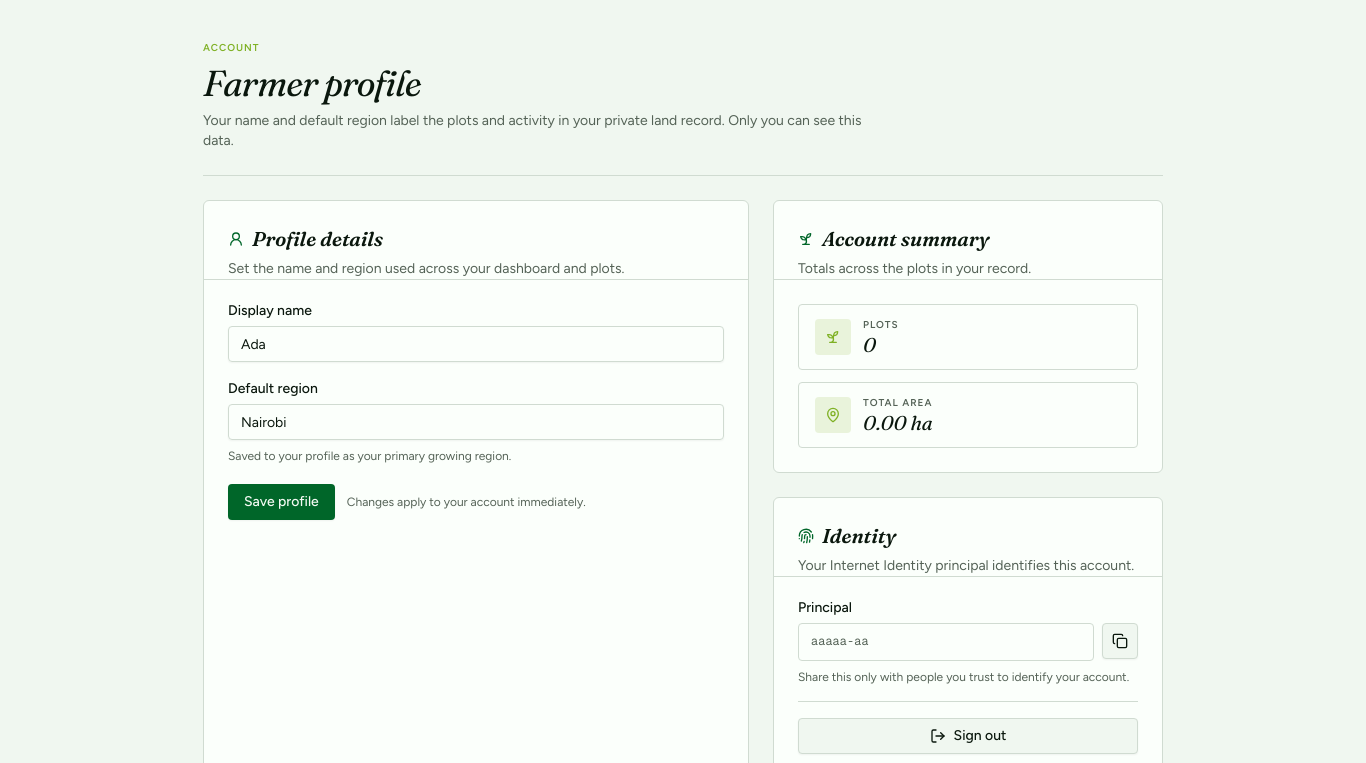
Scenario: ProfilePage › requires a display name before saving
Clear the field showing "Ada": (476, 344) [228,326,724,362]
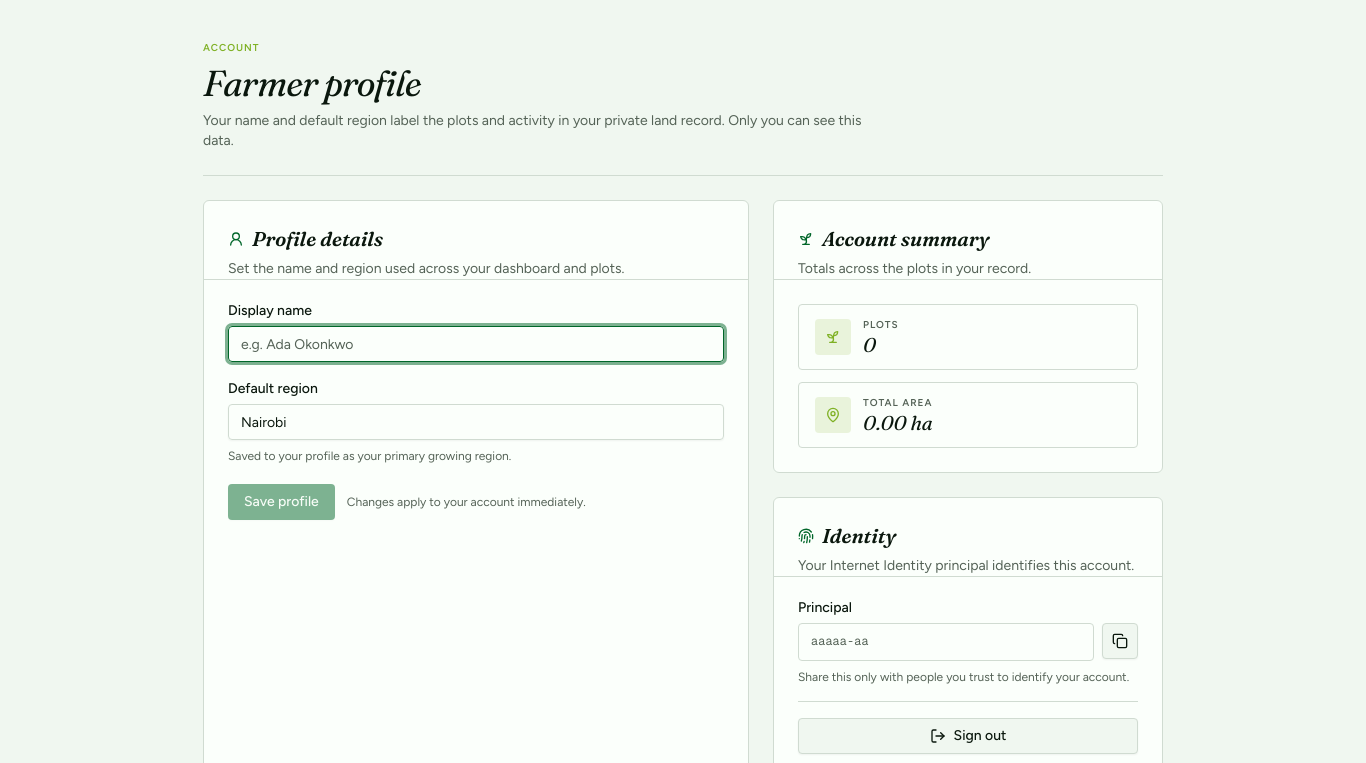
Submit the form with test id "profile.form", box [228,304,724,520]
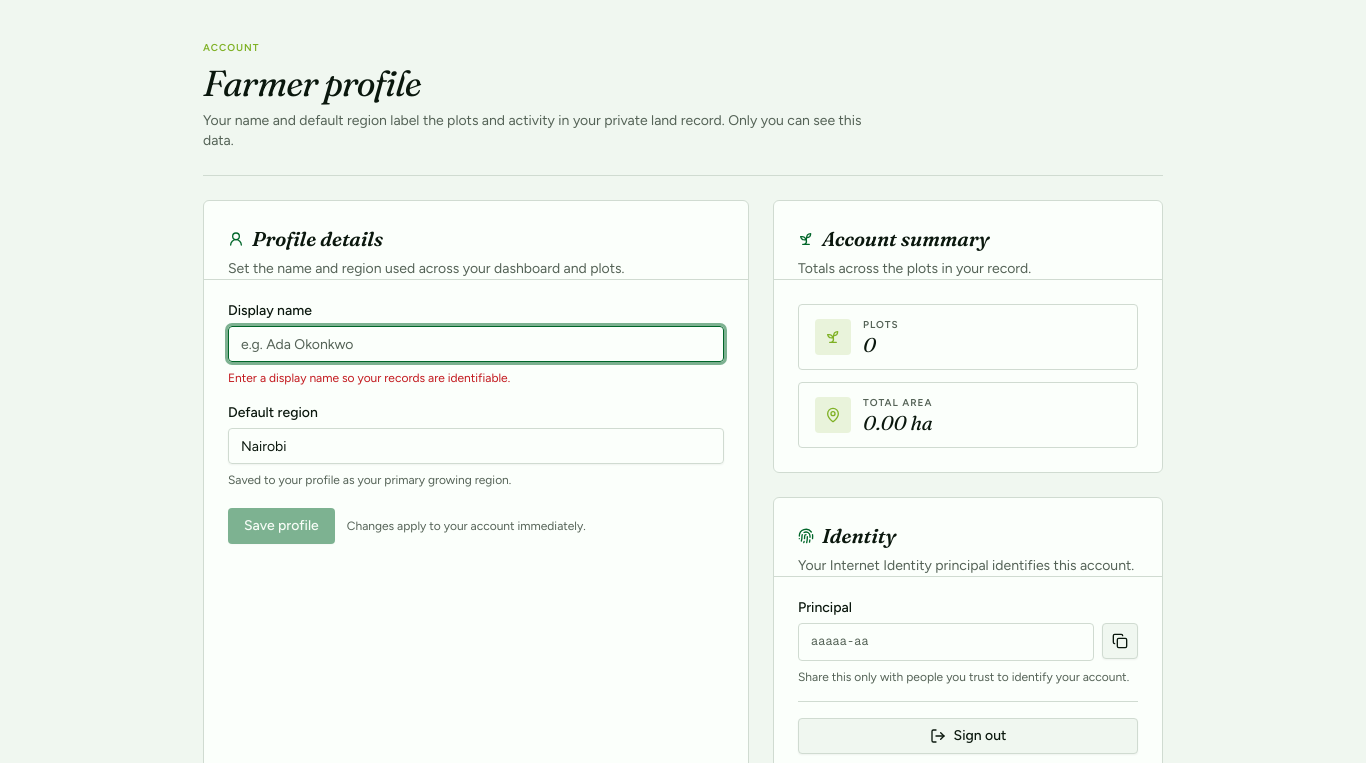
Result: the text "Enter a display name so your records are identifiable." is shown at [228,371,510,385]
